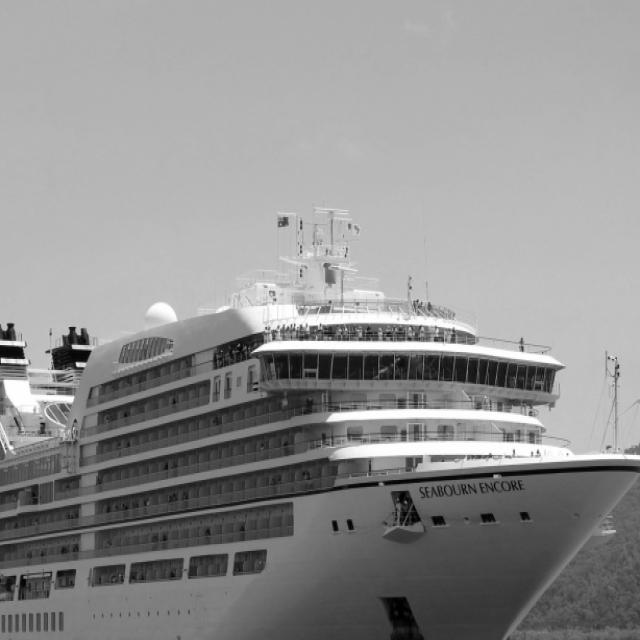cruises: (1, 205, 640, 640)
